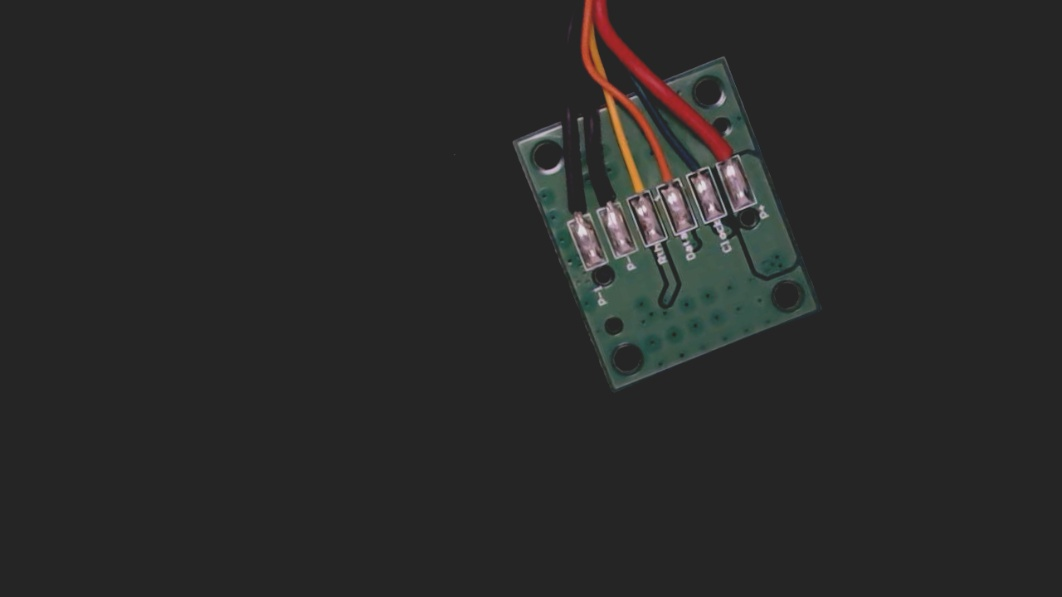Black: (582, 161, 624, 224)
Black1: (556, 180, 594, 233)
Green: (668, 127, 714, 192)
Orange: (639, 138, 684, 203)
Red: (698, 114, 744, 178)
Yellow: (612, 151, 654, 213)
